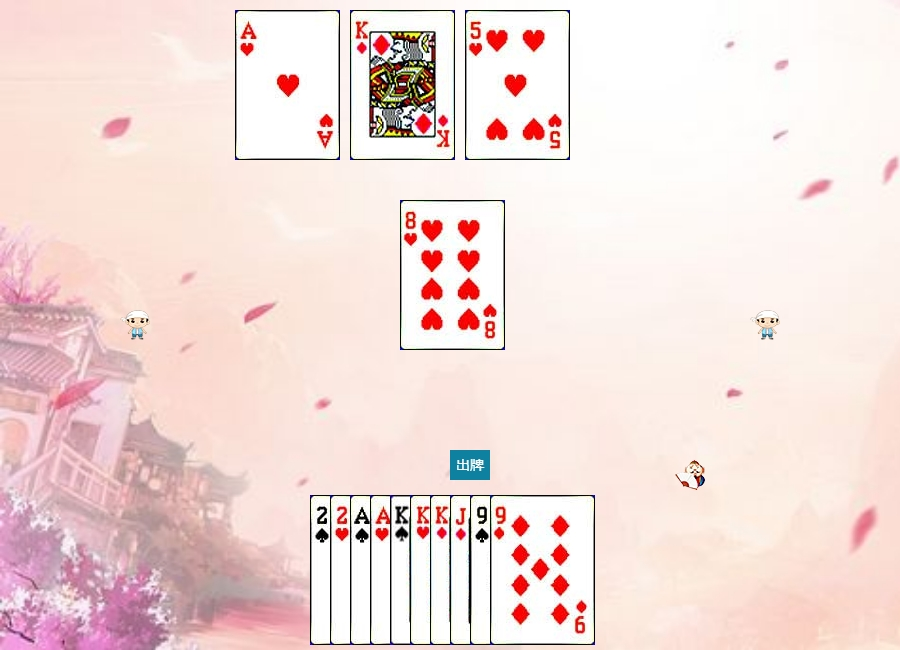11~1: (450, 495, 555, 645)
13~1: (350, 10, 455, 160), (430, 495, 535, 645)
13~3: (410, 495, 515, 645)
13~4: (390, 495, 495, 645)
14~3: (235, 10, 340, 160), (370, 495, 475, 645)
14~4: (350, 495, 455, 645)
15~3: (330, 495, 435, 645)
15~4: (310, 495, 415, 645)
5~3: (465, 10, 570, 160)
8~3: (400, 200, 505, 350)
9~1: (490, 495, 595, 645)
9~4: (470, 495, 575, 645)
